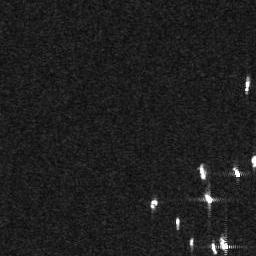ship: (197, 163, 208, 182), (173, 215, 182, 231), (219, 236, 228, 251), (201, 193, 213, 204), (209, 241, 218, 255), (249, 153, 256, 168), (151, 197, 159, 210), (245, 78, 251, 94), (233, 165, 240, 178)
